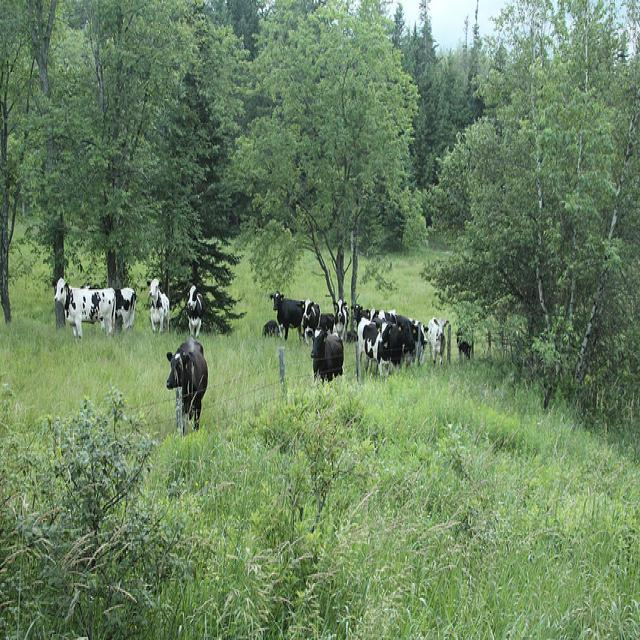cow: (261, 301, 473, 366), (52, 275, 114, 341), (164, 334, 207, 424), (268, 288, 321, 345), (354, 312, 392, 381), (305, 325, 343, 382), (102, 285, 135, 330), (385, 318, 413, 369), (146, 276, 169, 328), (427, 315, 449, 366), (186, 282, 204, 336), (331, 295, 348, 339), (318, 312, 333, 331), (365, 308, 383, 320)
